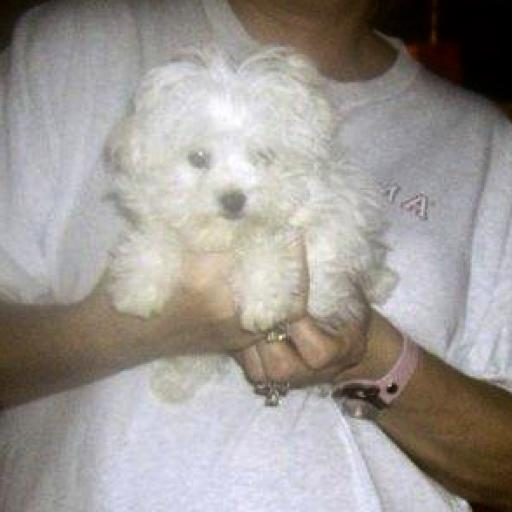dog_face: (96, 39, 341, 231)
